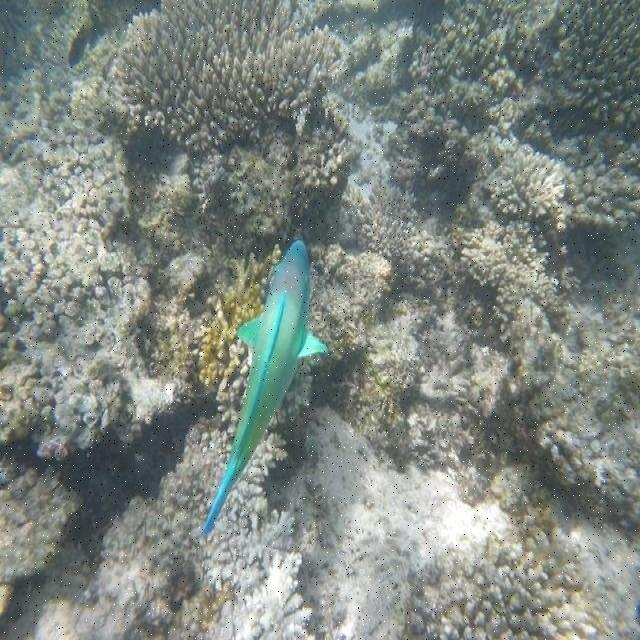fish: (201, 239, 330, 535)
